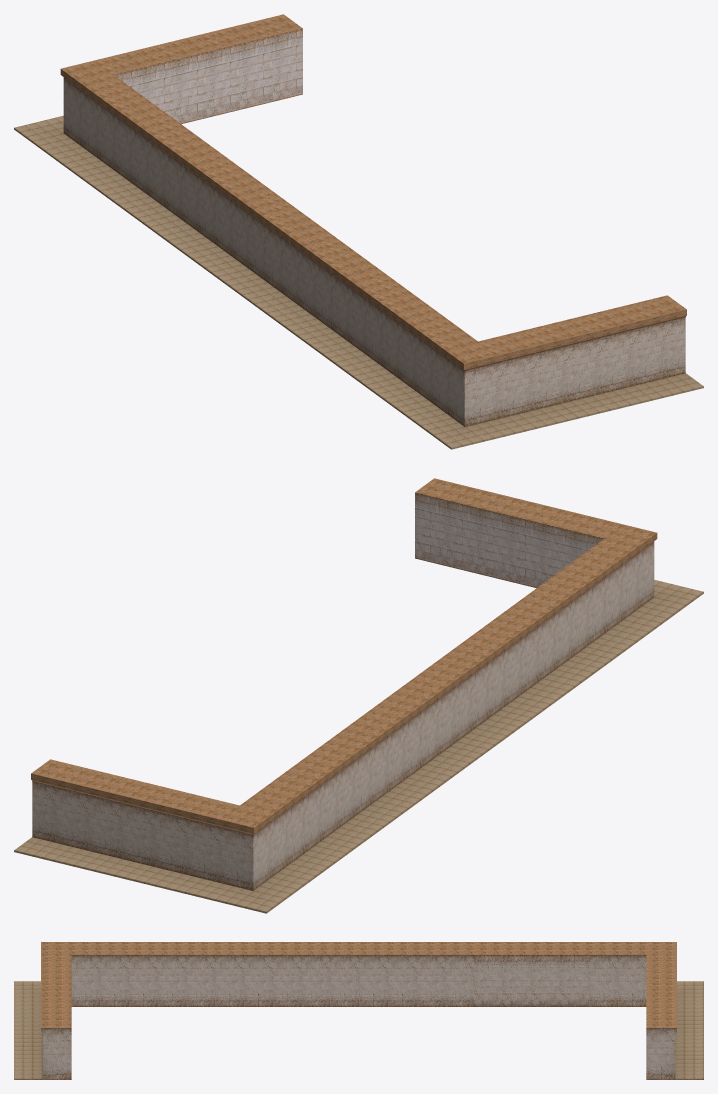
File: M2Zone4_Building15A.glb
3 views of the same model, one above another, from view 1: azimuth 30°, elevation 25°; view 2: azimuth 150°, elevation 25°; view 3: azimuth 270°, elevation 25° (orthographic). The views are drawn at different scales.
Visible parts, largest first — view 1: M2ZONE4_BUILDING15A; view 2: M2ZONE4_BUILDING15A; view 3: M2ZONE4_BUILDING15A.
Boxes of the visible parts, x1,y1,x2,y2 form: M2ZONE4_BUILDING15A: (14,14,703,449); M2ZONE4_BUILDING15A: (14,478,703,913); M2ZONE4_BUILDING15A: (14,942,703,1079).
Bounding box in the file's own units: 16 × 4 × 48.
4 materials, 4 textured.
